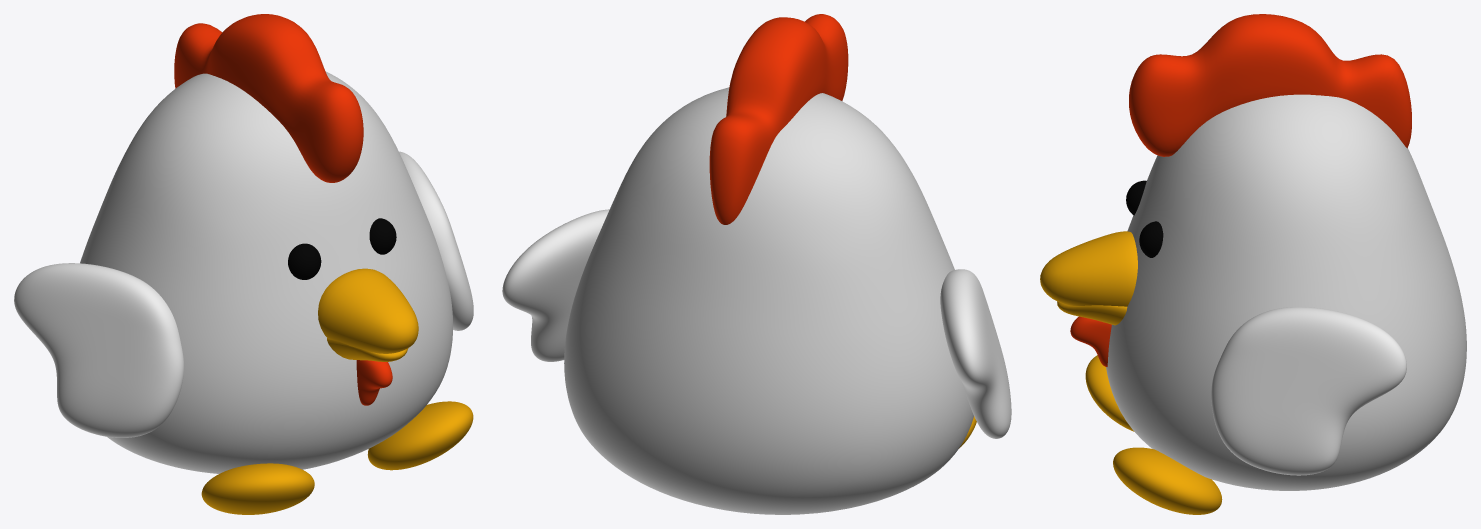
Rendered from Chicken_3d.glb.
The picture shows the model from 3 angles, left to right: view 1: azimuth 30°, elevation 25°; view 2: azimuth 150°, elevation 25°; view 3: azimuth 270°, elevation 25°; orthographic projection. The views are drawn at different scales.
Visible parts, largest first — view 1: Cube.012, Cube.016, Cube.013, Sphere.003, Cube.014, Sphere.006, Cube.015, Cube.017; view 2: Cube.012, Cube.016, Cube.013; view 3: Cube.012, Cube.016, Cube.013, Sphere.003, Cube.014, Cube.015, Sphere.006, Cube.017.
Part boxes in pixels (box(x1,y1,x2,y2)): Cube.012: box(80, 71, 452, 473); Cube.016: box(14, 151, 473, 437); Cube.013: box(174, 14, 363, 182); Sphere.003: box(201, 401, 473, 514); Cube.014: box(318, 268, 418, 353); Sphere.006: box(288, 218, 396, 279); Cube.015: box(356, 360, 392, 405); Cube.017: box(327, 338, 408, 361); Cube.012: box(564, 87, 973, 514); Cube.016: box(502, 209, 1011, 438); Cube.013: box(709, 14, 848, 224); Cube.012: box(1106, 94, 1466, 490); Cube.016: box(1211, 307, 1406, 475); Cube.013: box(1129, 14, 1411, 156); Sphere.003: box(1085, 355, 1222, 514); Cube.014: box(1040, 231, 1137, 306); Cube.015: box(1070, 316, 1111, 366); Sphere.006: box(1126, 180, 1163, 257); Cube.017: box(1057, 301, 1127, 325).
Size of the model in its own units: 5.92 by 5.74 by 4.98.
